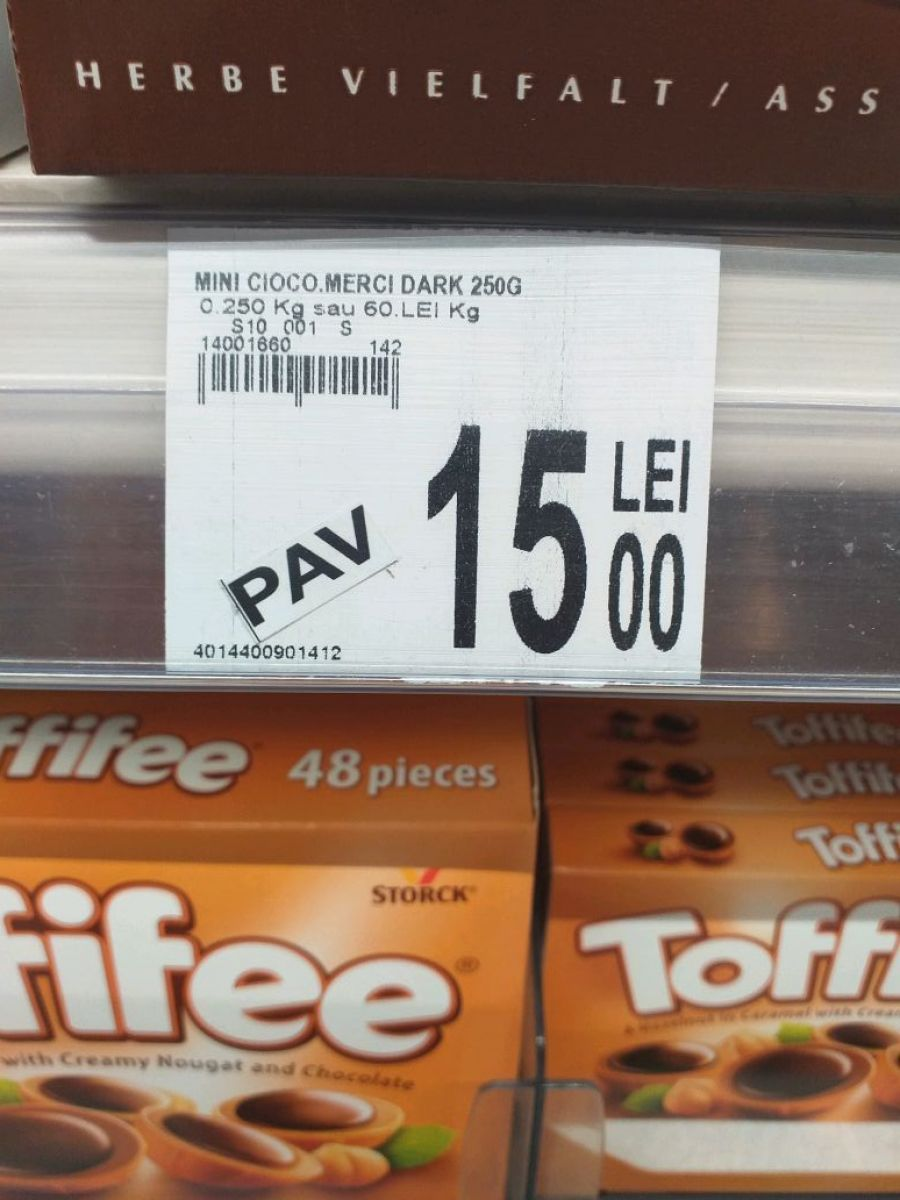price_bani: (597, 530, 693, 655)
price_lei: (418, 420, 602, 658)
price_tag: (142, 210, 743, 713)
product_id: (186, 638, 350, 669)
product_name: (174, 259, 539, 300)
